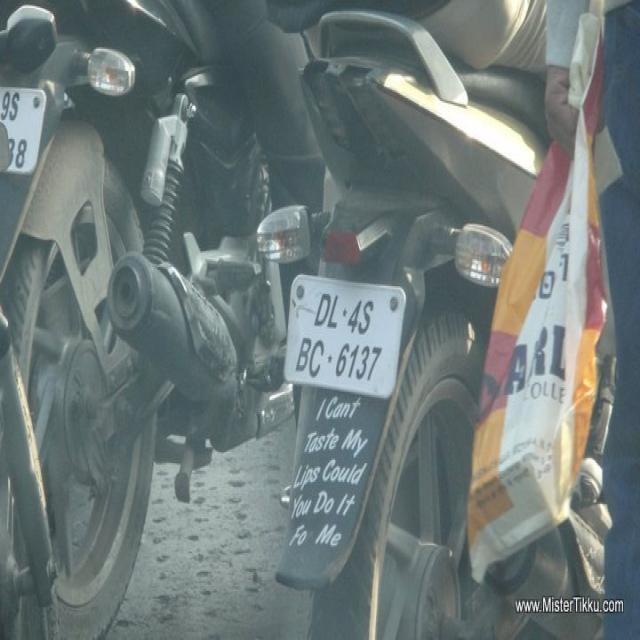number plate: (282, 268, 406, 399)
